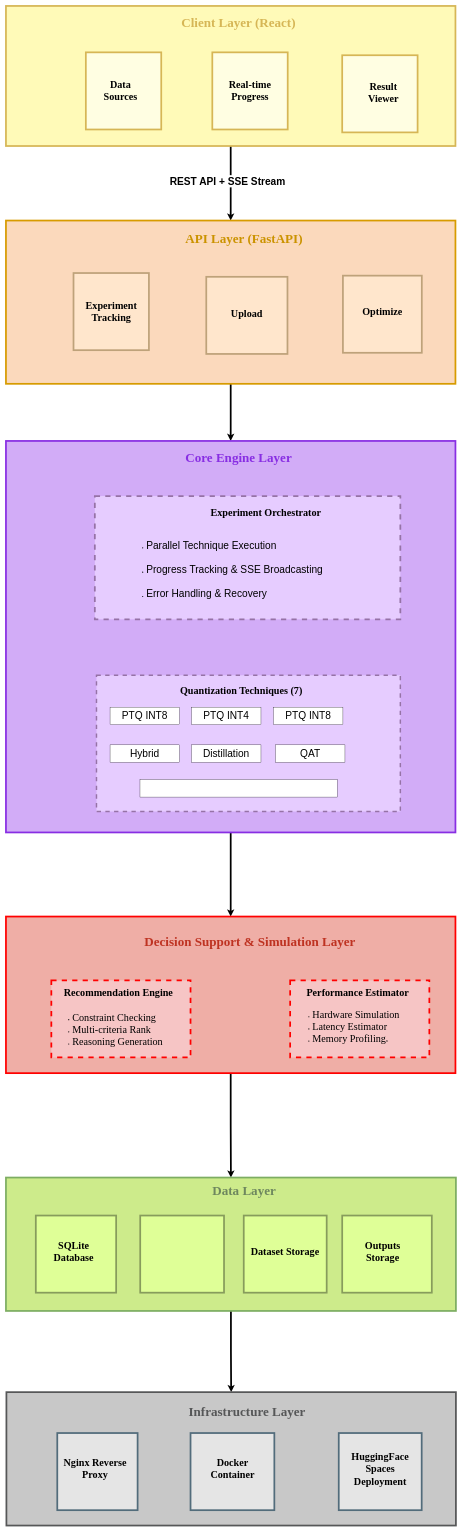
This 462x1531 diagram has some shape labels left out. The centre of each missing label's shape, as x and y in pixels:
"Framework-specific Implementations" belongs at point (238, 788).
"Models Storage" belongs at point (182, 1254).
